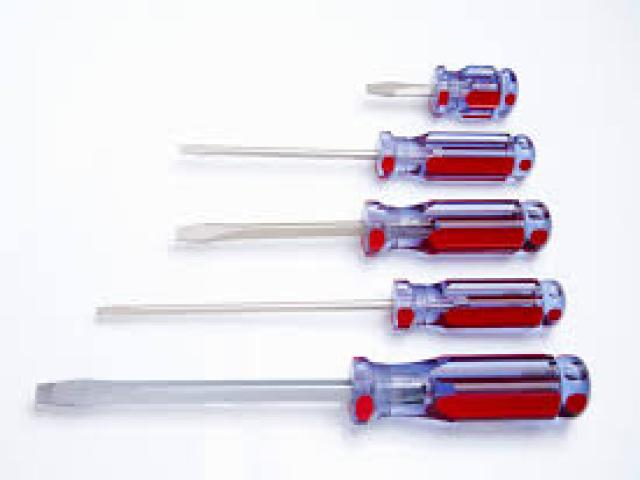Screwdriver: (36, 354, 590, 423), (95, 279, 569, 331), (175, 200, 551, 256), (181, 131, 534, 181), (366, 66, 518, 118)
